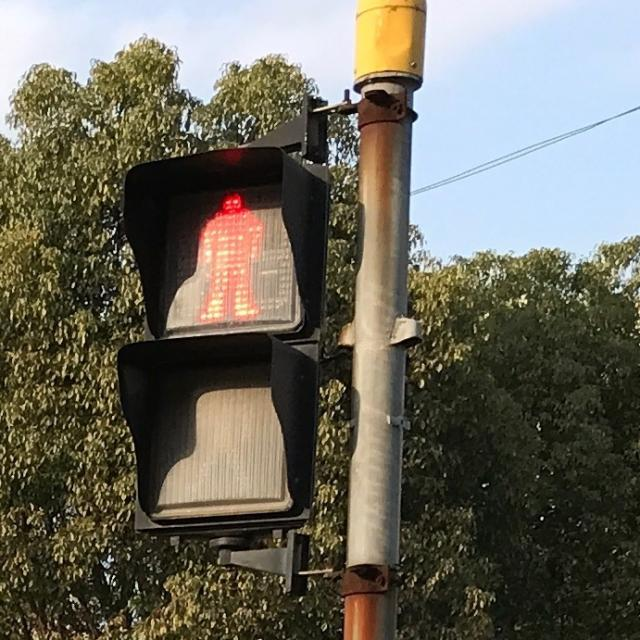red_light: (192, 182, 270, 321)
